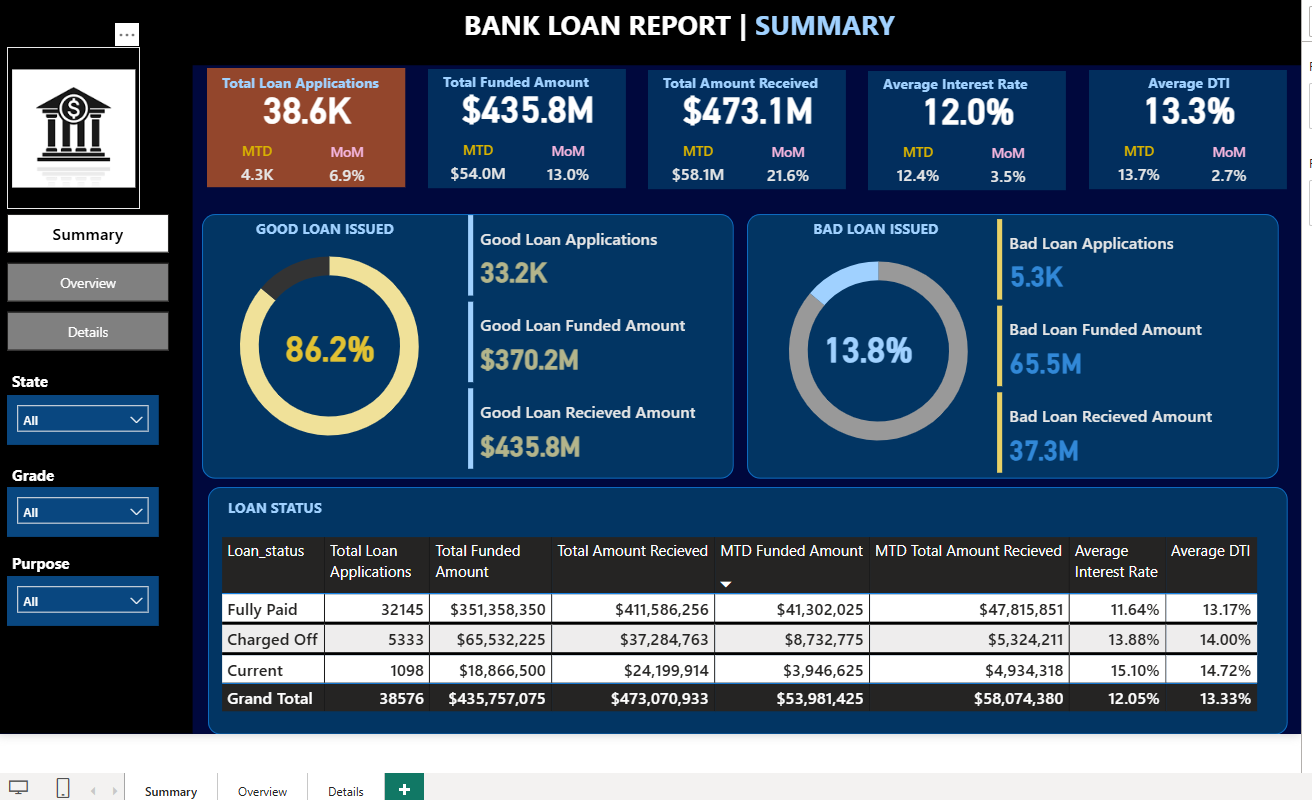

What the dashboard file says about the page in this screenshot:
{"tool":"powerbi","page":{"name":"Summary","canvas":[1280,720],"ordinal":0},"visuals":[{"type":"shape","box":[0,54.1,192.5,666.5],"z":0},{"type":"shape","box":[206.4,67.1,194.9,117.1],"z":0,"group":"g4"},{"type":"shape","box":[422.7,67.8,194.7,117.3],"z":0,"group":"g5"},{"type":"shape","box":[638.9,69.2,194.7,117.3],"z":0,"group":"g6"},{"type":"shape","box":[1071.8,69.5,194.7,117.3],"z":0,"group":"g8"},{"type":"shape","box":[855.1,69.7,194.7,117.3],"z":0,"group":"g7"},{"type":"group","id":"g1","title":"Group 2","box":[200.9,210.5,522.1,259.8],"z":0,"group":"g9"},{"type":"group","id":"g2","title":"Group 2","box":[206.9,477.6,1059.8,243],"z":0,"group":"g3"},{"type":"card","fields":{"Values":["bank_loan_data.Total Funded Amount"]},"box":[416.8,76.1,207.6,56.3],"z":1000,"group":"g5"},{"type":"card","fields":{"Values":["bank_loan_data.Total Loan Applications"]},"box":[200.5,77.3,207.6,56.3],"z":1000,"group":"g4"},{"type":"card","fields":{"Values":["bank_loan_data.Total Amount Recieved"]},"box":[633,77.5,207.6,56.3],"z":1000,"group":"g6"},{"type":"card","fields":{"Values":["bank_loan_data.Average DTI"]},"box":[1065.9,77.8,207.6,56.3],"z":1000,"group":"g8"},{"type":"card","fields":{"Values":["bank_loan_data.Average Interest Rate"]},"box":[849.2,78,207.6,56.3],"z":1000,"group":"g7"},{"type":"cardVisual","fields":{"Data":["bank_loan_data.Good Loan Applications","bank_loan_data.Good Loan Funded Amount","bank_loan_data.Good Loan Recieved Amount"]},"box":[457.3,206.3,281.5,259.8],"z":1000,"group":"g9"},{"type":"shape","box":[200.9,210.5,522.1,259.8],"z":1000,"group":"g1"},{"type":"group","id":"g3","title":"Group 3","box":[206.9,477.6,1059.8,243],"z":1000},{"type":"shape","box":[206.9,477.6,1059.8,243],"z":1000,"group":"g2"},{"type":"textbox","box":[432,65.5,177.1,38.7],"z":2000,"group":"g5"},{"type":"textbox","box":[215.7,66.7,177.1,38.7],"z":2000,"group":"g4"},{"type":"textbox","box":[648.2,66.9,177.1,38.7],"z":2000,"group":"g6"},{"type":"textbox","box":[1081.1,67.2,177.1,38.7],"z":2000,"group":"g8"},{"type":"textbox","box":[864.4,67.4,177.1,38.7],"z":2000,"group":"g7"},{"type":"shape","box":[736.2,210.5,522.1,259.8],"z":2000},{"type":"card","fields":{"Values":["bank_loan_data.Good Loan %"]},"box":[262.3,314,127.5,52.9],"z":2000,"group":"g1"},{"type":"shape","box":[0,0,1280,54.1],"z":3000},{"type":"card","title":"MTD","fields":{"Values":["bank_loan_data.MTD Funded Amount"]},"box":[432,138.4,78.6,49.3],"z":3000,"group":"g5"},{"type":"card","title":"MTD","fields":{"Values":["bank_loan_data.MTD Loan Applications"]},"box":[215.7,139.6,78.6,49.3],"z":3000,"group":"g4"},{"type":"card","title":"MTD","fields":{"Values":["bank_loan_data.MTD Total Amount Recieved"]},"box":[648.2,139.8,78.6,49.3],"z":3000,"group":"g6"},{"type":"card","title":"MTD","fields":{"Values":["bank_loan_data.MTD Average DTI"]},"box":[1081.1,140.1,78.6,49.3],"z":3000,"group":"g8"},{"type":"card","title":"MTD","fields":{"Values":["bank_loan_data.MTD Average Interest Rate"]},"box":[864.4,140.3,78.6,49.3],"z":3000,"group":"g7"},{"type":"card","title":"MoM","fields":{"Values":["bank_loan_data.MOM Total Funded Amount"]},"box":[521.2,139.5,78.6,49.3],"z":4000,"group":"g5"},{"type":"card","title":"MoM","fields":{"Values":["bank_loan_data.MoM Loan Application"]},"box":[304.9,140.7,78.6,49.3],"z":4000,"group":"g4"},{"type":"card","title":"MoM","fields":{"Values":["bank_loan_data.MOM Total Amount Recieved"]},"box":[737.4,140.9,78.6,49.3],"z":4000,"group":"g6"},{"type":"card","title":"MoM","fields":{"Values":["bank_loan_data.MOM Average DTI"]},"box":[1170.3,141.2,78.6,49.3],"z":4000,"group":"g8"},{"type":"card","title":"MoM","fields":{"Values":["bank_loan_data.MOM Average Interest Rate"]},"box":[953.6,141.4,78.6,49.3],"z":4000,"group":"g7"},{"type":"textbox","box":[245.4,210.5,163.6,38.5],"z":4000,"group":"g1"},{"type":"textbox","box":[9.6,359.7,65,38.5],"z":4000},{"type":"cardVisual","fields":{"Data":["bank_loan_data.Bad Loan Applications","bank_loan_data.Bad Loan Funded Amount","bank_loan_data.Bad Loan Recieved Amount"]},"box":[976.8,210.5,281.5,259.8],"z":5000},{"type":"textbox","box":[453.5,0,447.7,51],"z":6000},{"type":"card","fields":{"Values":["bank_loan_data.Bad Loan %"]},"box":[791.6,314,127.5,52.9],"z":7000},{"type":"group","id":"g4","title":"Group 1","box":[200.5,66.7,207.6,123.3],"z":8000},{"type":"group","id":"g5","title":"Group 1","box":[416.8,65.5,207.6,123.3],"z":9000},{"type":"textbox","box":[791.6,210.5,143.2,38.5],"z":10000},{"type":"group","id":"g6","title":"Group 1","box":[633,66.9,207.6,123.3],"z":11000},{"type":"group","id":"g7","title":"Group 1","box":[849.2,67.4,208,124],"z":12000},{"type":"donutChart","fields":{"Category":["bank_loan_data.Good vs Bad Loan"],"Y":["bank_loan_data.Total Loan Applications"]},"box":[200.9,224.9,250.2,229.8],"z":12000,"group":"g1"},{"type":"group","id":"g8","title":"Group 1","box":[1065.9,67.2,208.1,123.9],"z":13000},{"type":"group","id":"g9","title":"Group 3","box":[200.9,206.3,537.9,264.1],"z":14000},{"type":"donutChart","fields":{"Category":["bank_loan_data.Good vs Bad Loan"],"Y":["bank_loan_data.Total Loan Applications"]},"box":[739.8,229.8,250.2,229.8],"z":15000},{"type":"tableEx","fields":{"Values":["bank_loan_data.loan_status","bank_loan_data.Total Loan Applications","bank_loan_data.Total Funded Amount","bank_loan_data.Total Amount Recieved","bank_loan_data.MTD Funded Amount","bank_loan_data.MTD Total Amount Recieved","bank_loan_data.Average Interest Rate","bank_loan_data.Average DTI"]},"box":[215.3,522.1,1051.4,184.1],"z":16000},{"type":"textbox","box":[221.4,483.6,143.2,38.5],"z":17000},{"type":"shape","box":[0,50.5,1280,14.4],"z":18000},{"type":"slicer","fields":{"Values":["bank_loan_data.address_state"]},"box":[9.6,387.4,149.2,49.3],"z":19000},{"type":"slicer","fields":{"Values":["bank_loan_data.grade"]},"box":[9.6,477.6,149.2,49.3],"z":20000},{"type":"textbox","box":[9.6,451.1,65,38.5],"z":21000},{"type":"slicer","fields":{"Values":["bank_loan_data.purpose"]},"box":[9.6,565.4,149.2,49.3],"z":22000},{"type":"textbox","box":[9.6,537.7,74.6,38.5],"z":23000},{"type":"image","box":[9.8,46.1,130.6,159],"z":24000},{"type":"pageNavigator","box":[9.8,210.1,159,134.5],"z":25000}]}

Visuals, with their boxes on the page's 1280x720 design canvas (x1, y1, x2, y2). These are canvas units, not pixel positions in the 1312x800 screenshot, which may show the page scaled, cropped or inside an application window:
shape: (0,54,192,721)
shape: (206,67,401,184)
shape: (423,68,617,185)
shape: (639,69,834,186)
shape: (1072,70,1266,187)
shape: (855,70,1050,187)
"Group 2" group: (201,210,723,470)
"Group 2" group: (207,478,1267,721)
card - bank_loan_data.Total Funded Amount: (417,76,624,132)
card - bank_loan_data.Total Loan Applications: (200,77,408,134)
card - bank_loan_data.Total Amount Recieved: (633,78,841,134)
card - bank_loan_data.Average DTI: (1066,78,1274,134)
card - bank_loan_data.Average Interest Rate: (849,78,1057,134)
cardVisual - bank_loan_data.Good Loan Applications x bank_loan_data.Good Loan Funded Amount: (457,206,739,466)
shape: (201,210,723,470)
"Group 3" group: (207,478,1267,721)
shape: (207,478,1267,721)
textbox: (432,66,609,104)
textbox: (216,67,393,105)
textbox: (648,67,825,106)
textbox: (1081,67,1258,106)
textbox: (864,67,1042,106)
shape: (736,210,1258,470)
card - bank_loan_data.Good Loan %: (262,314,390,367)
shape: (0,0,1280,54)
"MTD" card: (432,138,511,188)
"MTD" card: (216,140,294,189)
"MTD" card: (648,140,727,189)
"MTD" card: (1081,140,1160,189)
"MTD" card: (864,140,943,190)
"MoM" card: (521,140,600,189)
"MoM" card: (305,141,384,190)
"MoM" card: (737,141,816,190)
"MoM" card: (1170,141,1249,190)
"MoM" card: (954,141,1032,191)
textbox: (245,210,409,249)
textbox: (10,360,75,398)
cardVisual - bank_loan_data.Bad Loan Applications x bank_loan_data.Bad Loan Funded Amount: (977,210,1258,470)
textbox: (454,0,901,51)
card - bank_loan_data.Bad Loan %: (792,314,919,367)
"Group 1" group: (200,67,408,190)
"Group 1" group: (417,66,624,189)
textbox: (792,210,935,249)
"Group 1" group: (633,67,841,190)
"Group 1" group: (849,67,1057,191)
donutChart - bank_loan_data.Good vs Bad Loan x bank_loan_data.Total Loan Applications: (201,225,451,455)
"Group 1" group: (1066,67,1274,191)
"Group 3" group: (201,206,739,470)
donutChart - bank_loan_data.Good vs Bad Loan x bank_loan_data.Total Loan Applications: (740,230,990,460)
tableEx - bank_loan_data.loan_status x bank_loan_data.Total Loan Applications: (215,522,1267,706)
textbox: (221,484,365,522)
shape: (0,50,1280,65)
slicer - bank_loan_data.address_state: (10,387,159,437)
slicer - bank_loan_data.grade: (10,478,159,527)
textbox: (10,451,75,490)
slicer - bank_loan_data.purpose: (10,565,159,615)
textbox: (10,538,84,576)
image: (10,46,140,205)
pageNavigator: (10,210,169,345)
